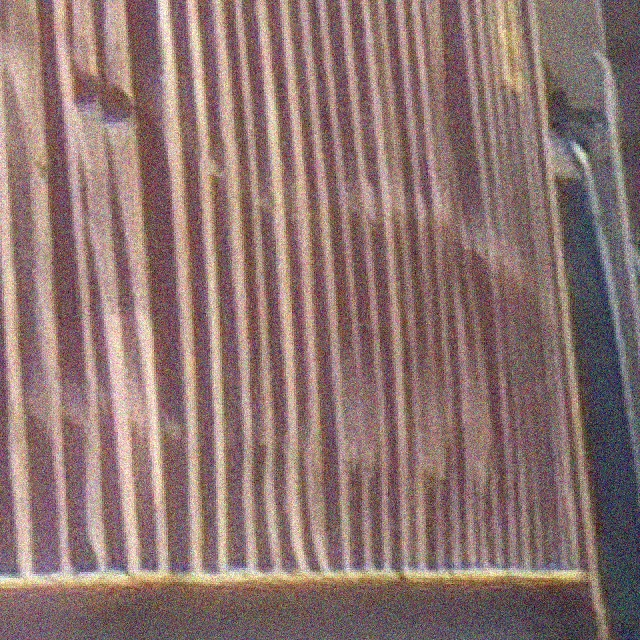Dent: (49, 1, 185, 267), (417, 1, 505, 315)
